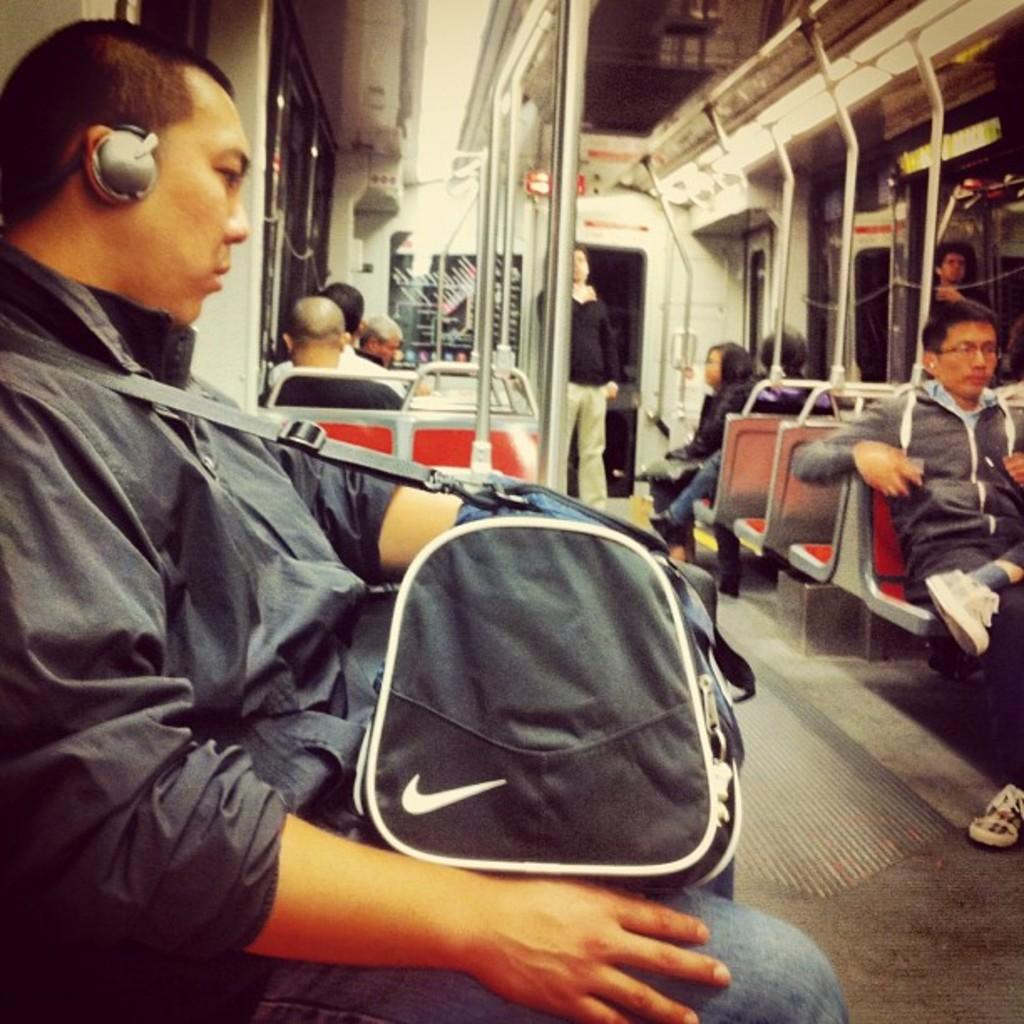Luggage-and-bags: (3, 321, 740, 893)
